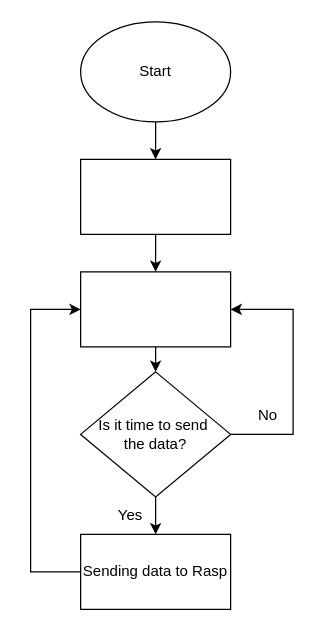
The diagram is 328 pixels wide and 631 high, and some of its shapes have lost their labels. Here are the shapes that lost their labels. From the top down, the centre of each, then its label:
At [155,196]: "Configure GPIO, initialize CAN and UART Set the timer.".
At [155,309]: "Reading & processing values from the CAN bus.".
